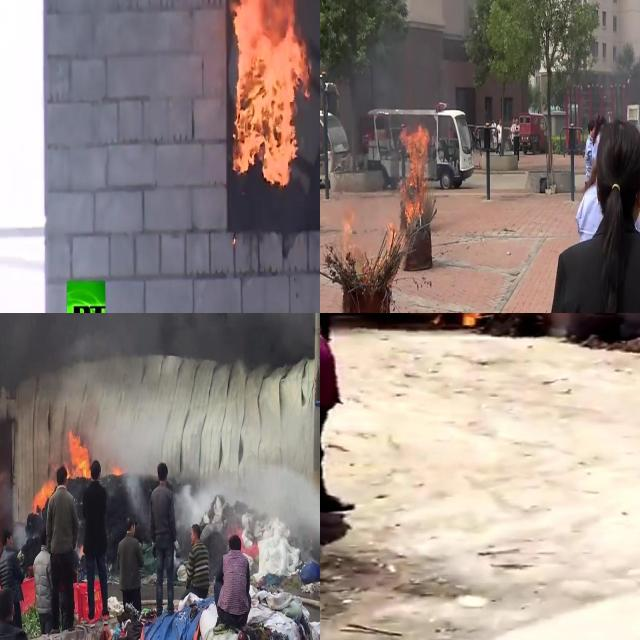fire: (230, 0, 312, 188), (44, 429, 94, 496), (398, 122, 429, 221), (66, 430, 92, 480), (339, 207, 357, 268), (452, 313, 508, 325)
smoke: (350, 34, 434, 114), (216, 313, 316, 355)
